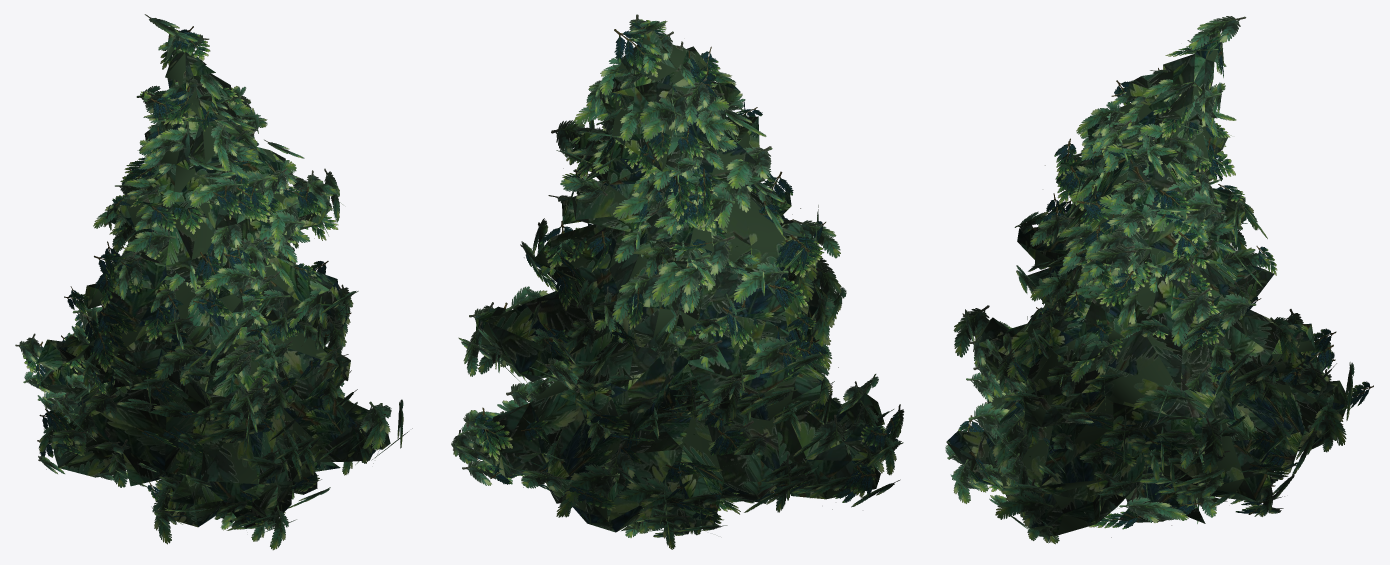
Rendered from pine_1.glb.
The picture shows the model from 3 angles, left to right: view 1: azimuth 30°, elevation 25°; view 2: azimuth 150°, elevation 25°; view 3: azimuth 270°, elevation 25°; orthographic projection. The views are drawn at different scales.
Parts seen in each view (by area): view 1: Fable_pine_1; view 2: Fable_pine_1; view 3: Fable_pine_1.
Boxes of the visible parts, <box> form: Fable_pine_1: <box>15,14,412,550</box>; Fable_pine_1: <box>451,14,904,549</box>; Fable_pine_1: <box>945,16,1373,544</box>.
Size of the model in its own units: 5.95 by 7.32 by 5.92.
Materials: 2 (2 with a texture image).
